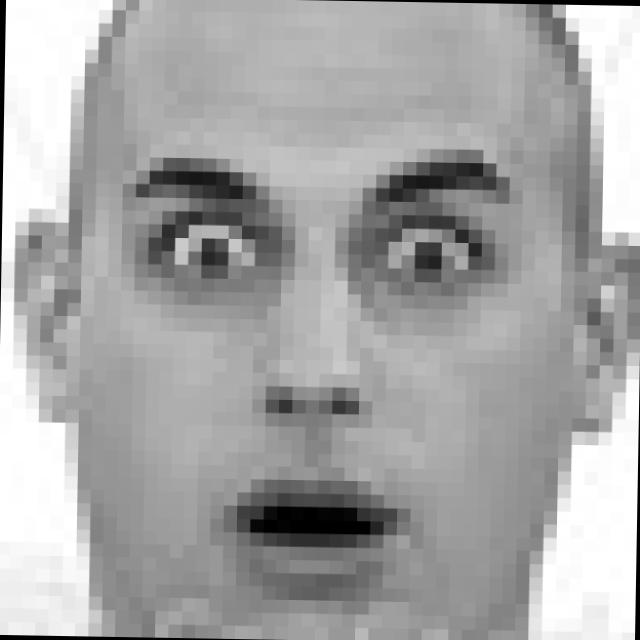surprise: (116, 142, 520, 596)
